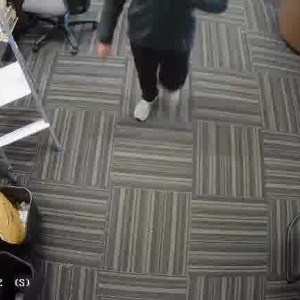person: (109, 0, 209, 127)
